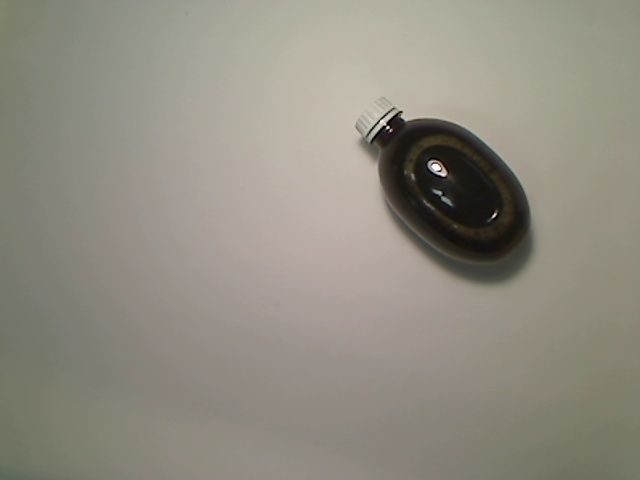plast_bottle: (350, 94, 535, 270)
